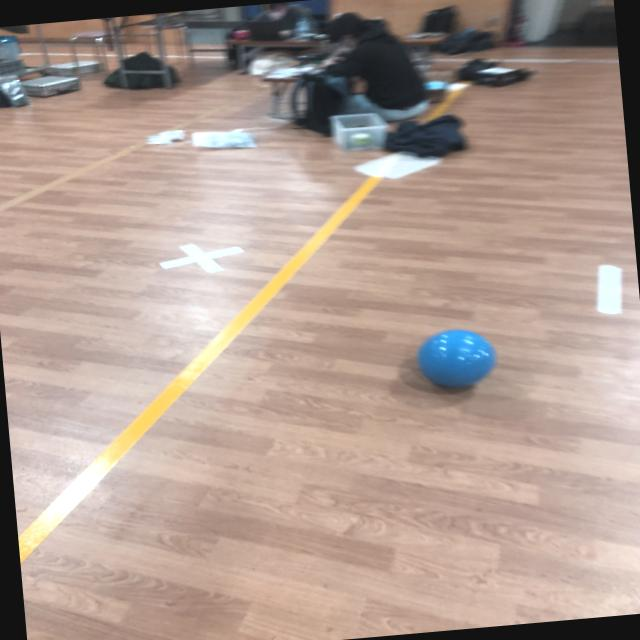blue_ball: (419, 324, 502, 394)
